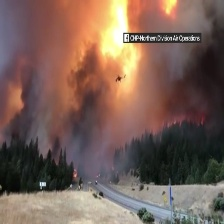fire: (106, 4, 129, 53)
smoke: (6, 48, 158, 186), (165, 47, 219, 109)
